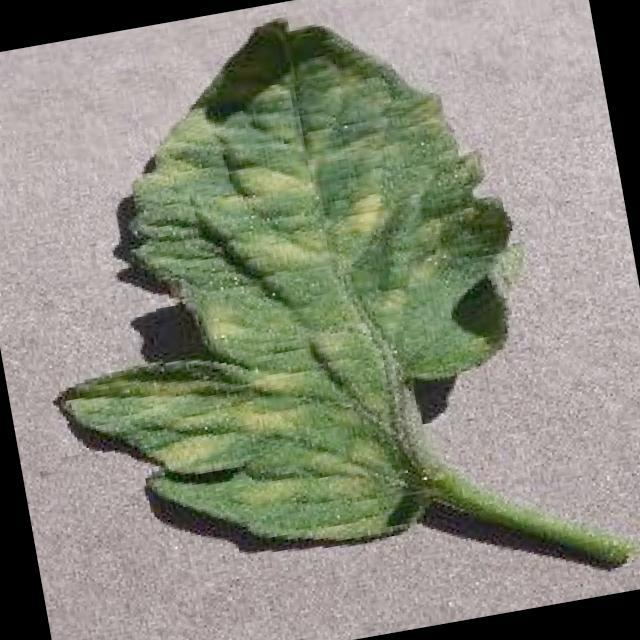Tomato mold leaf: (1, 0, 566, 589)
